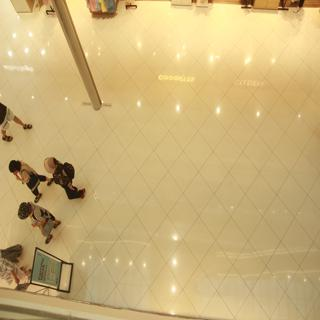person: (45, 151, 93, 209), (10, 201, 69, 245), (4, 158, 54, 198)
